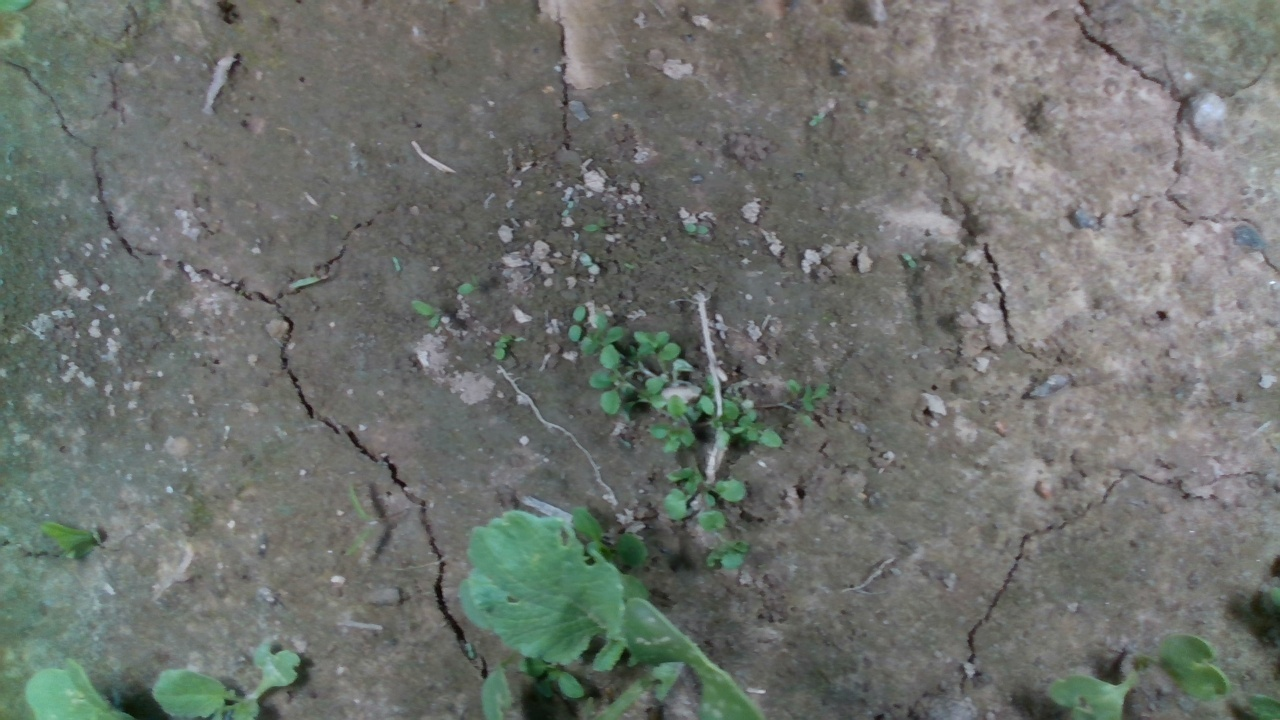weed: (398, 295, 451, 336)
